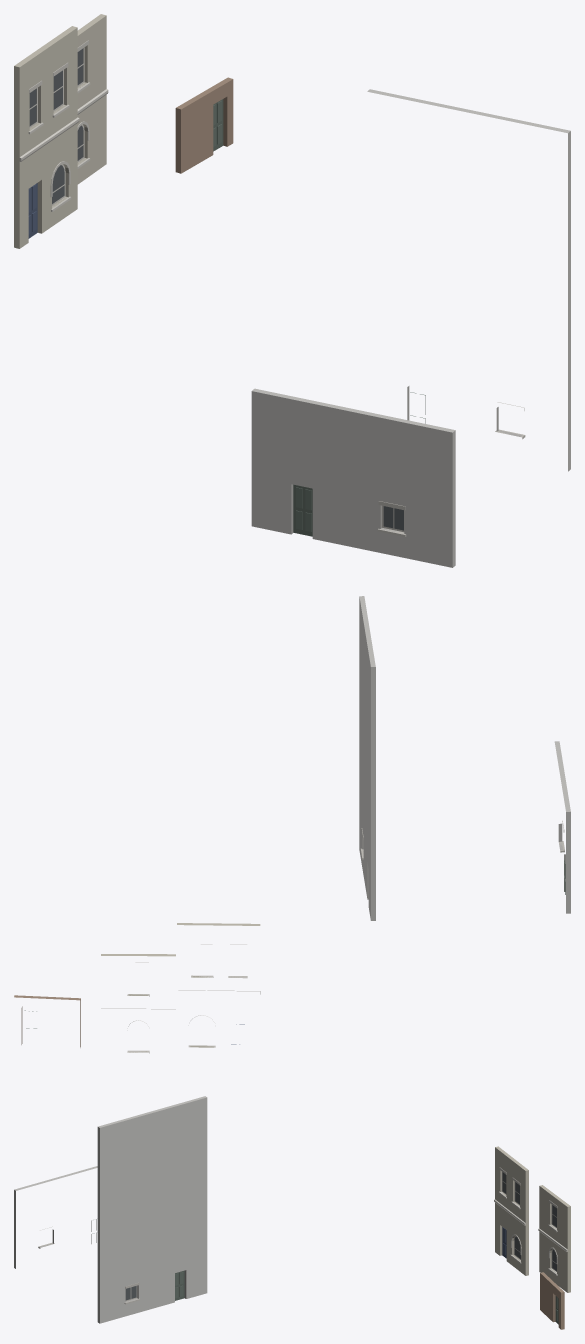
3 renders of one model, top to bottom at view 1: azimuth 30°, elevation 25°; view 2: azimuth 150°, elevation 25°; view 3: azimuth 270°, elevation 25°, orthographic. The views are drawn at different scales.
Visible parts, largest first — view 1: f:way/158220597, f:way/242629373, f:way/920086388; view 2: f:way/158220597, f:way/242629373; view 3: f:way/158220597, f:way/242629373, f:way/920086388.
Part boxes in pixels (left/top/right/bottom): f:way/158220597: left=251, top=89, right=570, bottom=567; f:way/242629373: left=14, top=14, right=108, bottom=248; f:way/920086388: left=175, top=77, right=233, bottom=173; f:way/158220597: left=359, top=596, right=570, bottom=920; f:way/242629373: left=101, top=923, right=260, bottom=1053; f:way/158220597: left=14, top=1096, right=207, bottom=1323; f:way/242629373: left=494, top=1146, right=570, bottom=1292; f:way/920086388: left=540, top=1272, right=564, bottom=1329.
Size of the model in its own units: 15.78 by 14.11 by 36.38.
